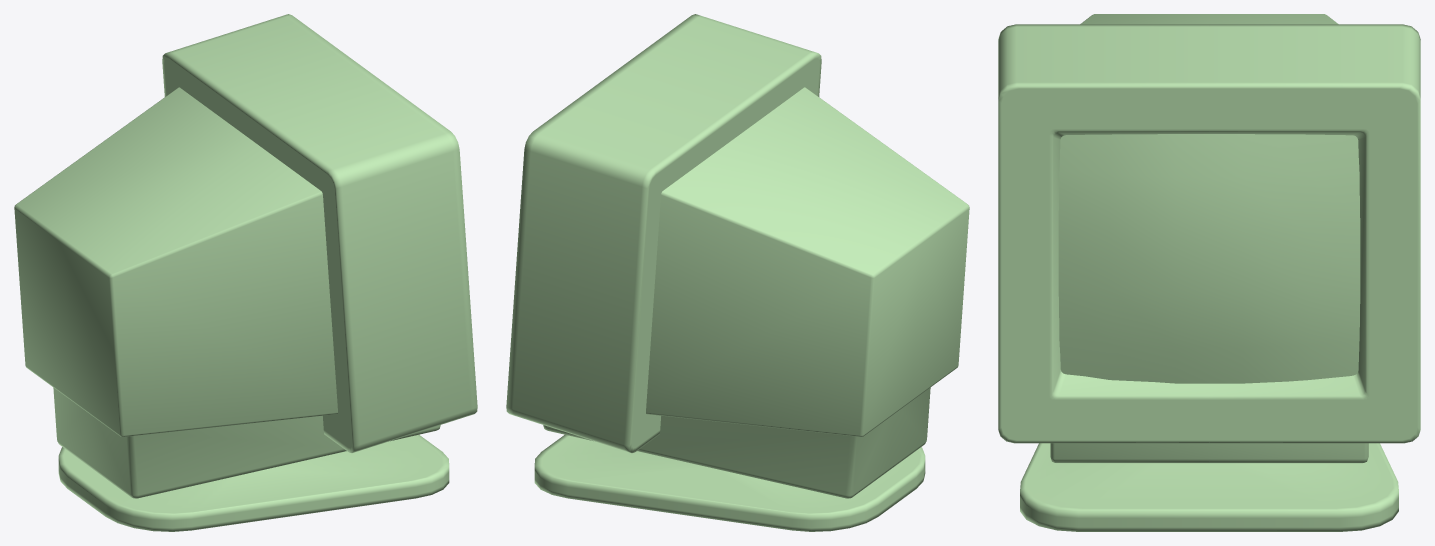
Rendered from monitor.glb.
3 renders of one model, left to right at view 1: azimuth 30°, elevation 25°; view 2: azimuth 150°, elevation 25°; view 3: azimuth 270°, elevation 25°, orthographic. The views are drawn at different scales.
Parts seen in each view (by area): view 1: Cube; view 2: Cube; view 3: Cube.
Part boxes in pixels (left/top/right/bottom): Cube: left=14, top=14, right=477, bottom=531; Cube: left=506, top=14, right=969, bottom=531; Cube: left=998, top=14, right=1420, bottom=531.
Size of the model in its own units: 218 by 228 by 200.
